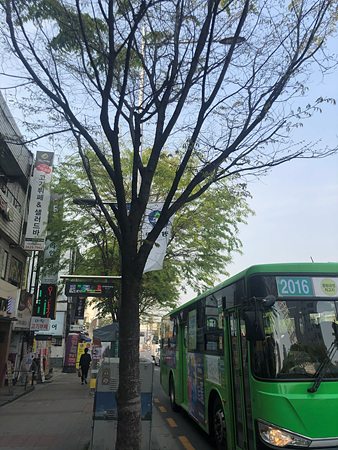bnum: (279, 276, 312, 295)
